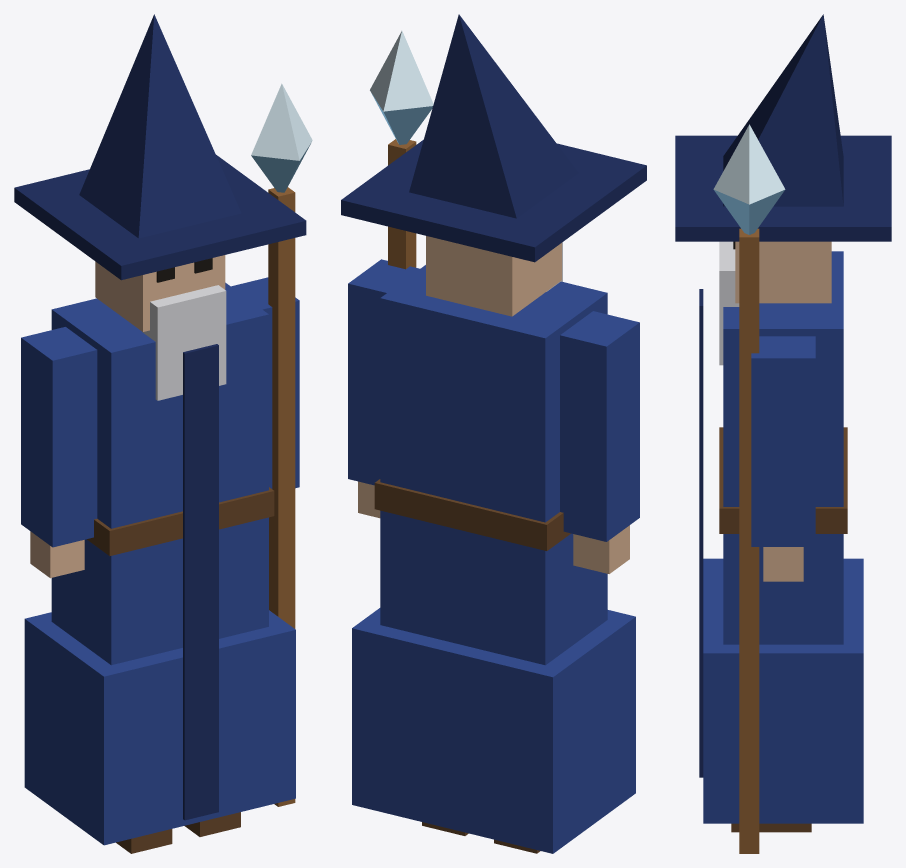
The model's file is mage_placeholder.glb.
3 views of the same model, side by side, from view 1: azimuth 30°, elevation 25°; view 2: azimuth 150°, elevation 25°; view 3: azimuth 270°, elevation 25° (orthographic). The views are drawn at different scales.
Parts seen in each view (by area): view 1: mage_placeholder; view 2: mage_placeholder; view 3: mage_placeholder.
Part boxes in pixels (left/top/right/bottom): mage_placeholder: left=14, top=14, right=312, bottom=853; mage_placeholder: left=341, top=14, right=646, bottom=853; mage_placeholder: left=675, top=14, right=891, bottom=853.
Size of the model in its own units: 0.755 by 2.2 by 0.54.
Materials: 1 (1 with a texture image).
